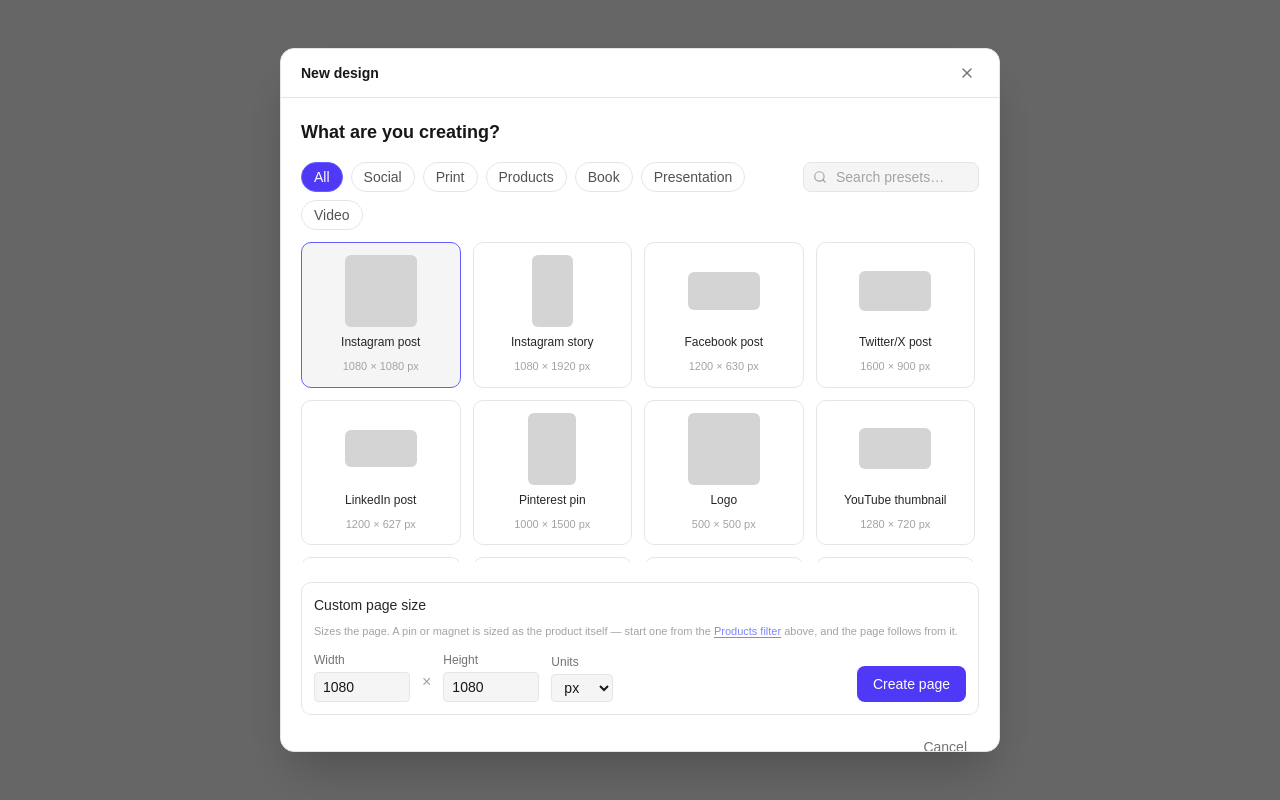
Test: NewDesignModal — print products › falls back to the hint when a search leaves the products grid empty
Type "zzz" into the search field labelled "Search presets". click: [891, 177]
box: top-left (803, 162), bottom-right (979, 192)
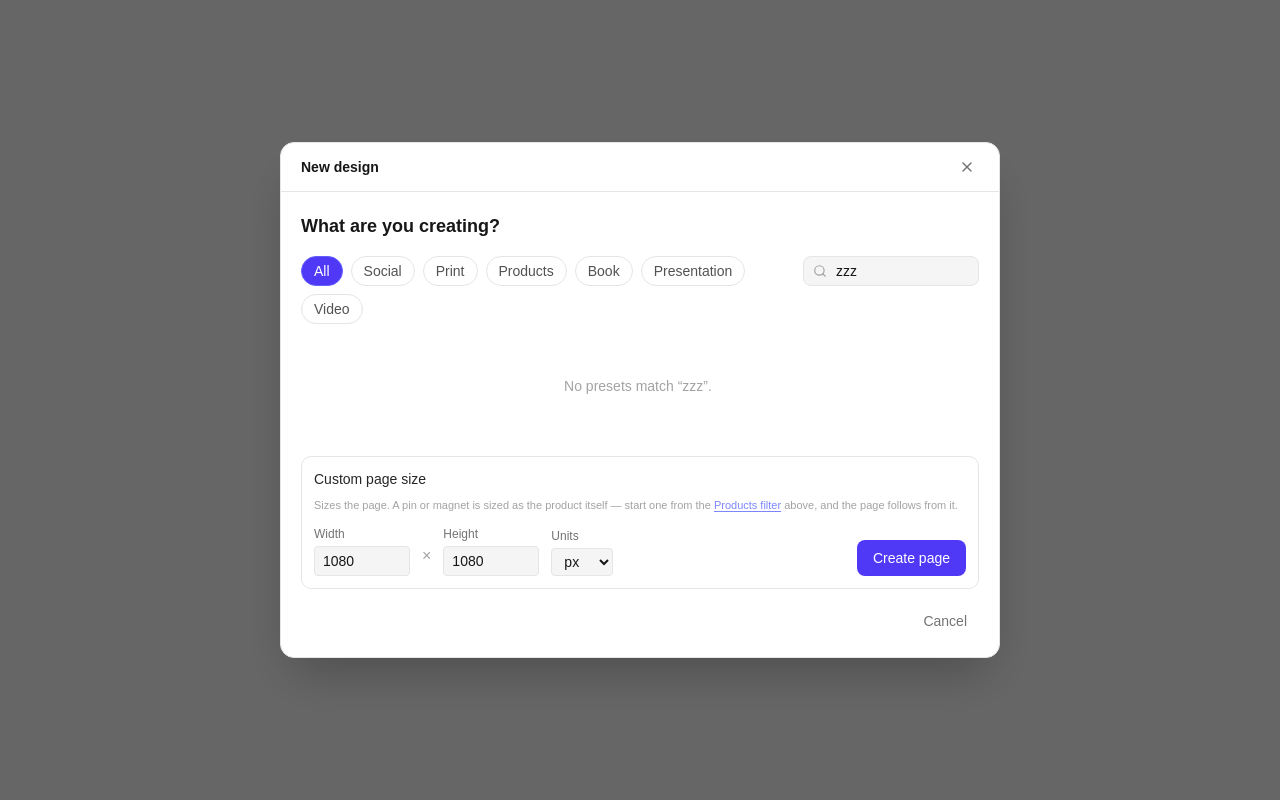
Click the button "Products". click: [526, 271]
box: top-left (486, 256), bottom-right (567, 286)
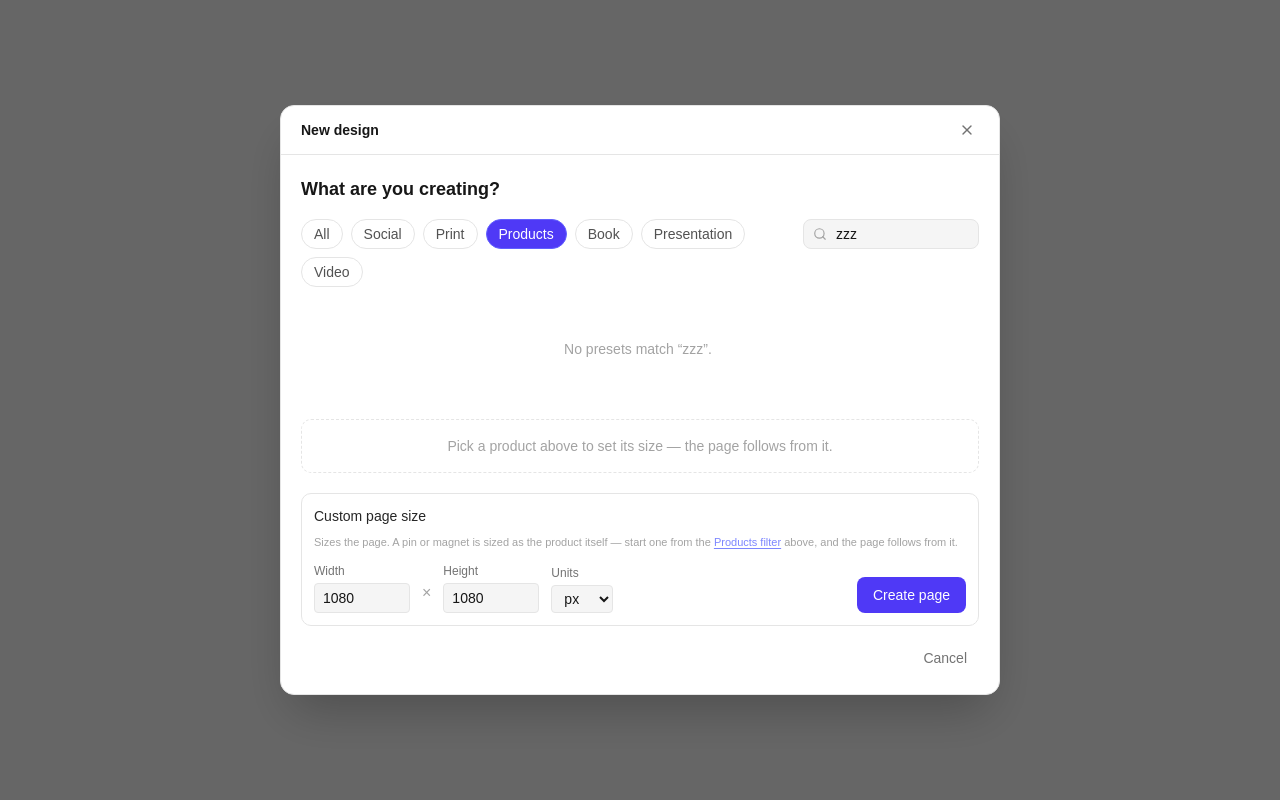
expect the text "Pick a product above to set its size" is shown: met, box top-left (447, 438), bottom-right (833, 454)
